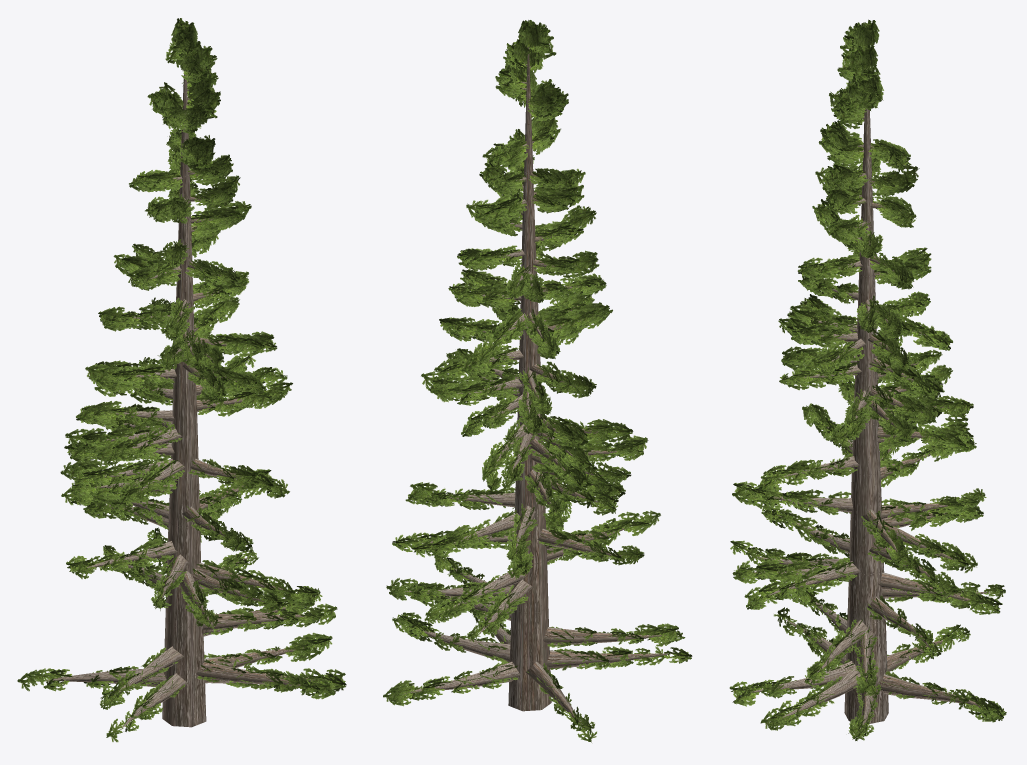
The model's file is eztree-eastern-redcedar-open-a.glb.
3 views of the same model, side by side, from view 1: azimuth 30°, elevation 25°; view 2: azimuth 150°, elevation 25°; view 3: azimuth 270°, elevation 25° (orthographic). The views are drawn at different scales.
Parts seen in each view (by area): view 1: eztree-eastern-redcedar-open-a; view 2: eztree-eastern-redcedar-open-a; view 3: eztree-eastern-redcedar-open-a.
Boxes of the visible parts, x1=… form: eztree-eastern-redcedar-open-a: x1=17, y1=18, x2=346, y2=742; eztree-eastern-redcedar-open-a: x1=383, y1=20, x2=692, y2=742; eztree-eastern-redcedar-open-a: x1=729, y1=19, x2=1006, y2=740.
Size of the model in its own units: 20.6 by 50.72 by 19.12.
2 materials, 2 textured.
